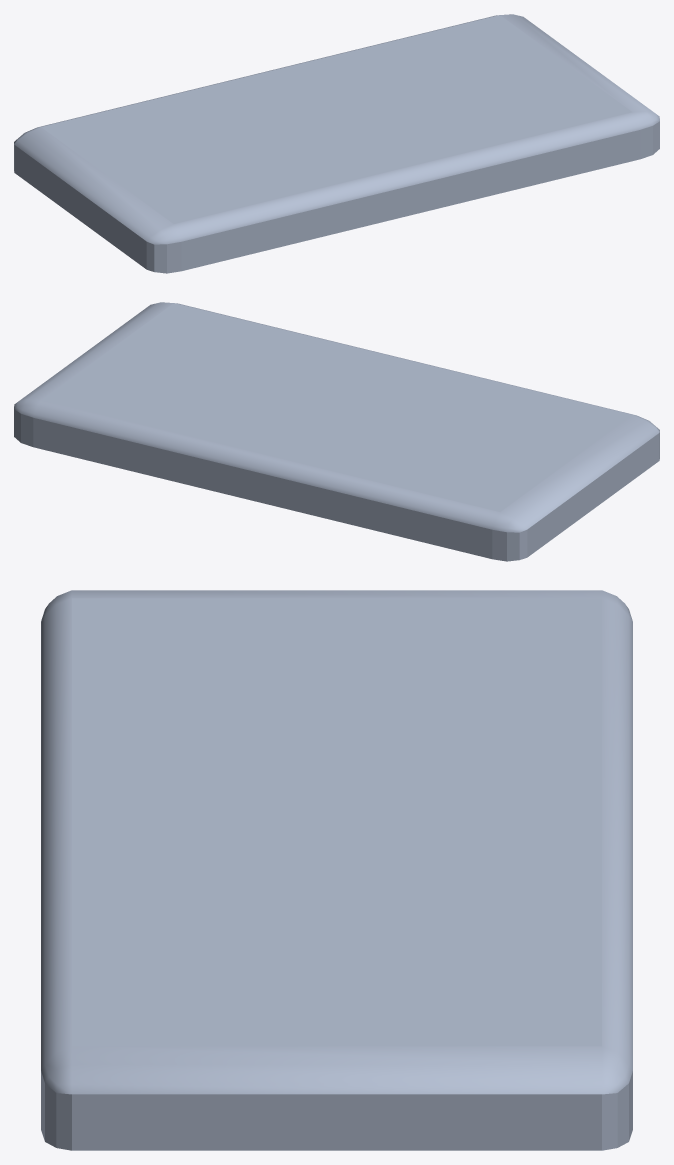
File: UI BUTTON TEST.fbx
3 renders of one model, top to bottom at view 1: azimuth 30°, elevation 25°; view 2: azimuth 150°, elevation 25°; view 3: azimuth 270°, elevation 25°, orthographic. The views are drawn at different scales.
Parts seen in each view (by area): view 1: Cube.001; view 2: Cube.001; view 3: Cube.001.
Boxes of the visible parts, x1,y1,x2,y2 form: Cube.001: [14, 14, 659, 273]; Cube.001: [14, 302, 659, 561]; Cube.001: [41, 590, 632, 1150].
Size of the model in its own units: 4 by 0.3087 by 2.
